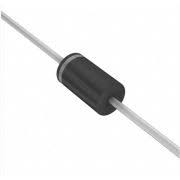diode: (25, 35, 142, 133)
